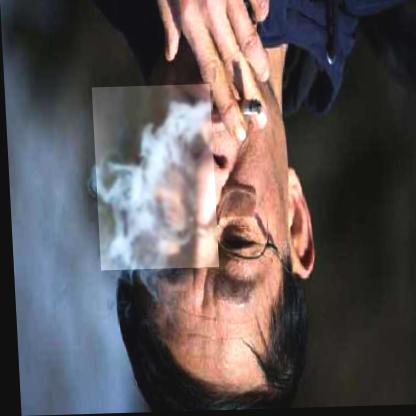smoke: (91, 85, 216, 271)
